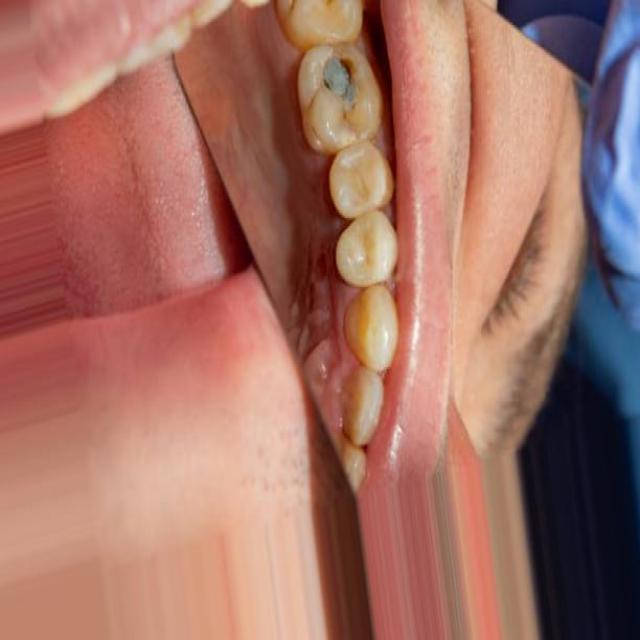caries: (311, 41, 368, 125)
